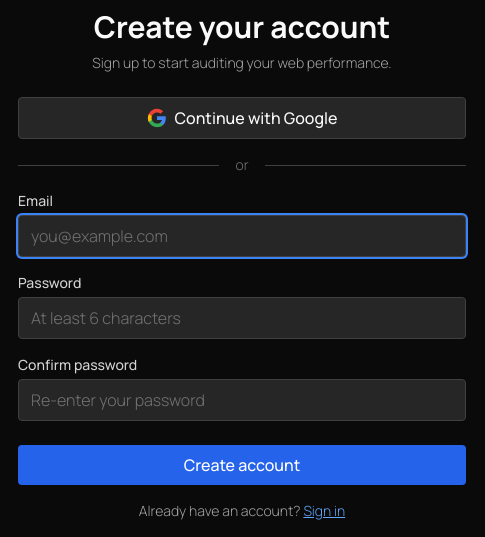
Test case: U-PERF-137-001: Signup form shows loading state on submit › shows spinner and disables button during sign-up
In the field with test id "signup-email-input": (242,236) [18,215,466,257], type "test@example.com"
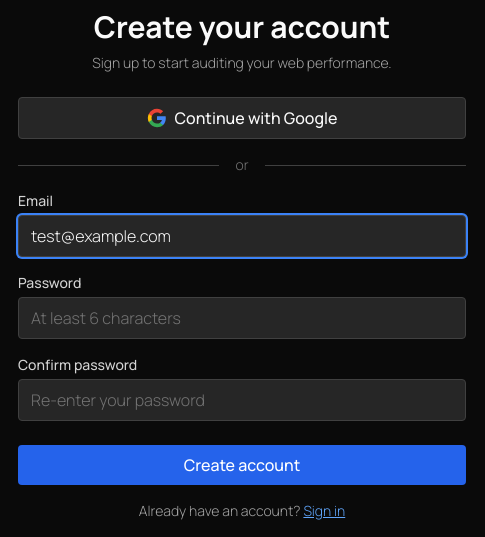
In the password field with test id "signup-password-input": (242,318) [18,297,466,339], type "password123"
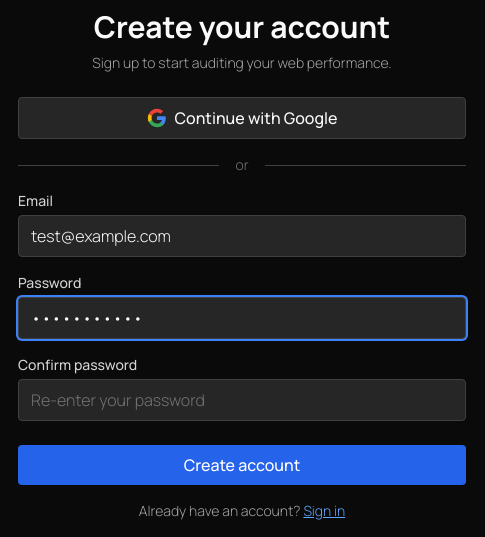
In the password field with test id "signup-confirm-input": (242,400) [18,379,466,421], type "password123"
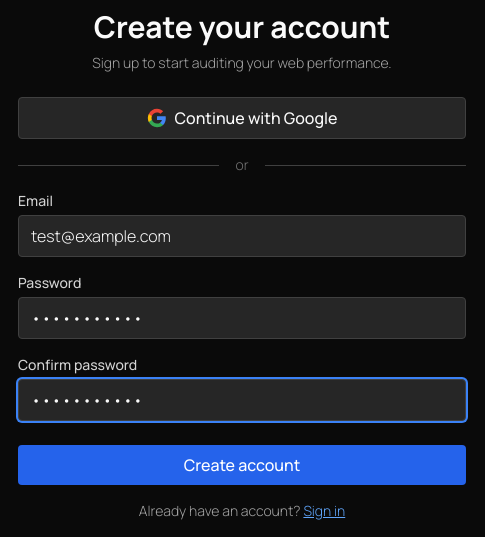
Click the button with test id "signup-submit": (242,465) [18,445,466,485]
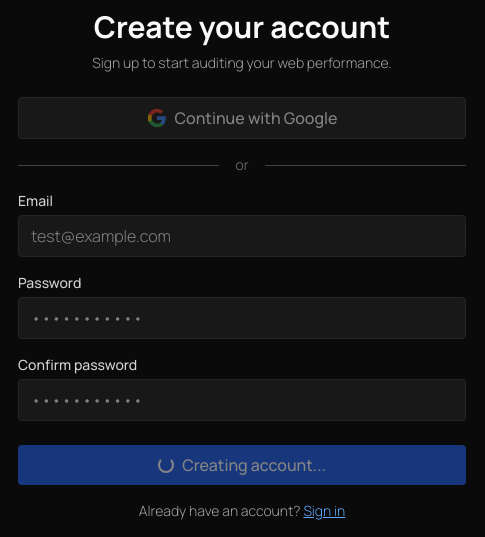
Expected: the element with test id "signup-spinner" is shown, [158,457,174,473]
Expected: the button with test id "signup-submit" is disabled, [18,445,466,485]
Expected: the button with test id "signup-submit" reads "Creating account...", [18,445,466,485]
